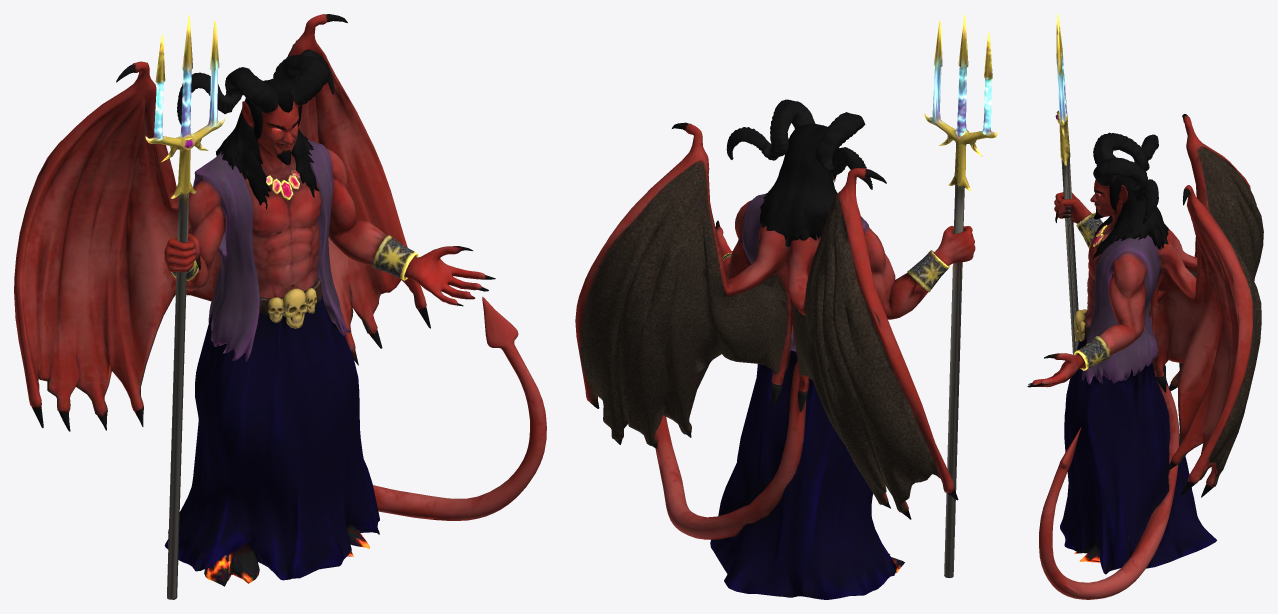
The model's file is MZ4250 - Mephistopheles.glb.
3 views of the same model, side by side, from view 1: azimuth 30°, elevation 25°; view 2: azimuth 150°, elevation 25°; view 3: azimuth 270°, elevation 25° (orthographic). The views are drawn at different scales.
Visible parts, largest first — view 1: Mephistopheles.003; view 2: Mephistopheles.003; view 3: Mephistopheles.003.
Part boxes in pixels (bbox=[...]): Mephistopheles.003: bbox=[14, 14, 546, 599]; Mephistopheles.003: bbox=[575, 14, 998, 599]; Mephistopheles.003: bbox=[1027, 14, 1263, 599].
Size of the model in its own units: 62.21 by 85.04 by 37.94.
Materials: 1 (1 with a texture image).
